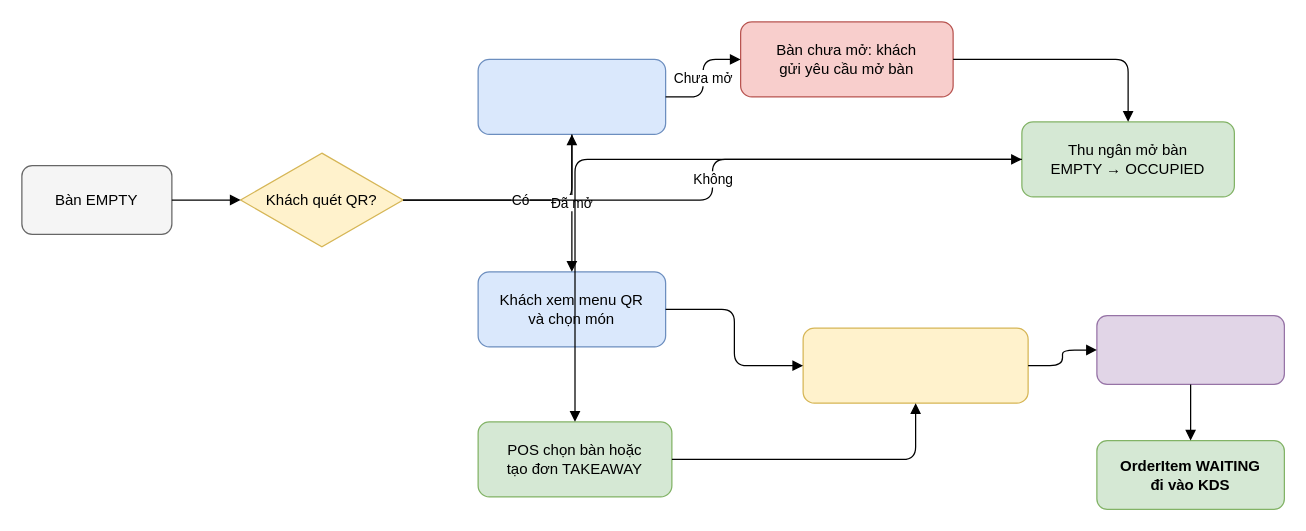
Some shapes in this 1306 by 531 pixel diagram are drawn without their labels. The shapes that lost their labels are listed below. From the top down, each one's centre as x and y in pixels, then its label:
At pixel 571 96: "QR kiểm tra mã và trạng thái bàn".
At pixel 915 365: "Validate menu, giá, modifier, khả năng bán".
At pixel 1190 349: "SalesOrder ACTIVE".
